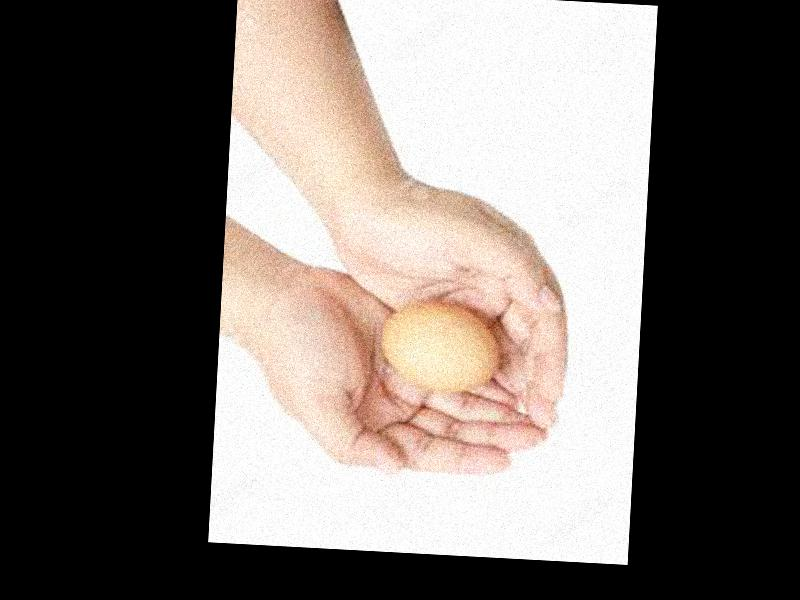Eggs: (381, 298, 498, 392)
